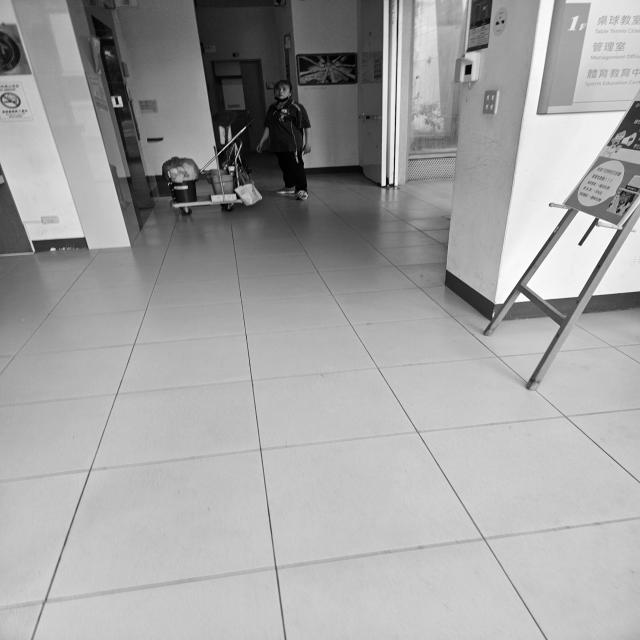Road-Object: (0, 173, 640, 640)
